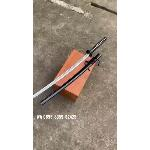Pedang: (34, 34, 110, 108)
